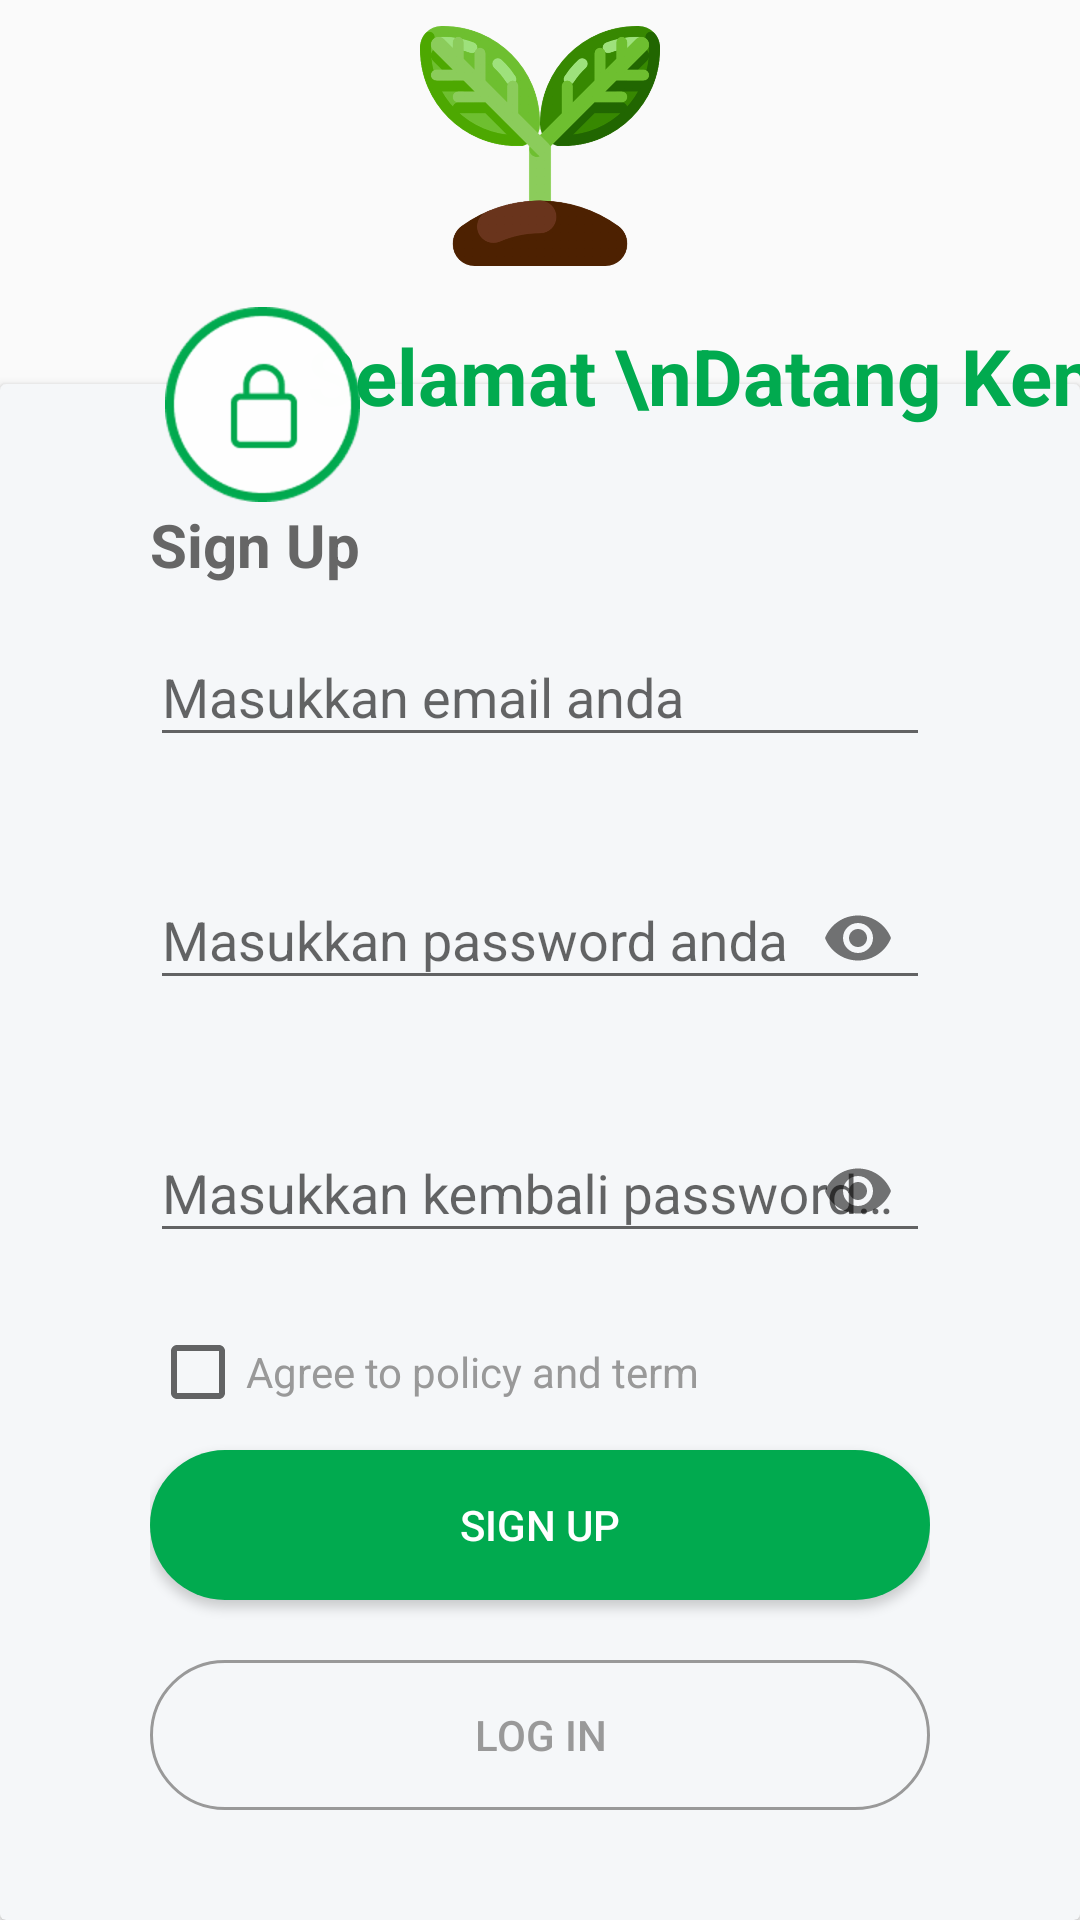

Icons on this 1080px x 1920px Android screen, each with its box as (x1, y1, x2, y2):
lock: (165, 307, 360, 502)
plant: (420, 26, 660, 266)
